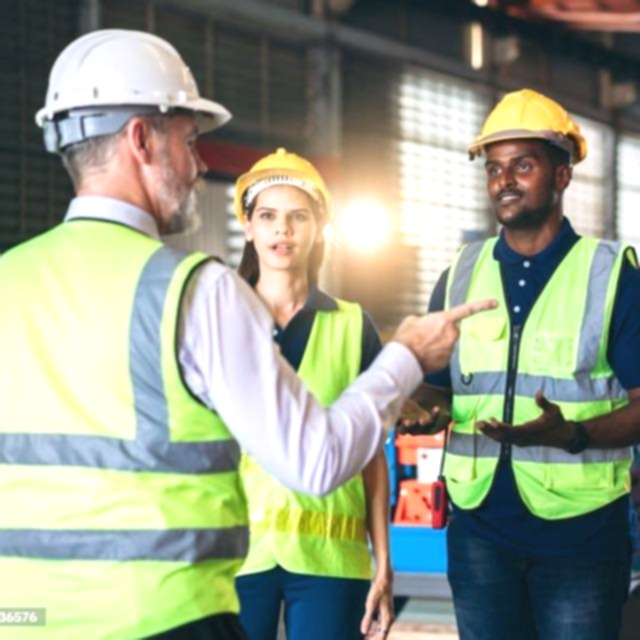Con_Casco: (36, 28, 231, 236), (469, 87, 590, 233), (233, 147, 335, 277)
Con_Chaleco: (3, 217, 245, 635), (439, 233, 640, 515)
